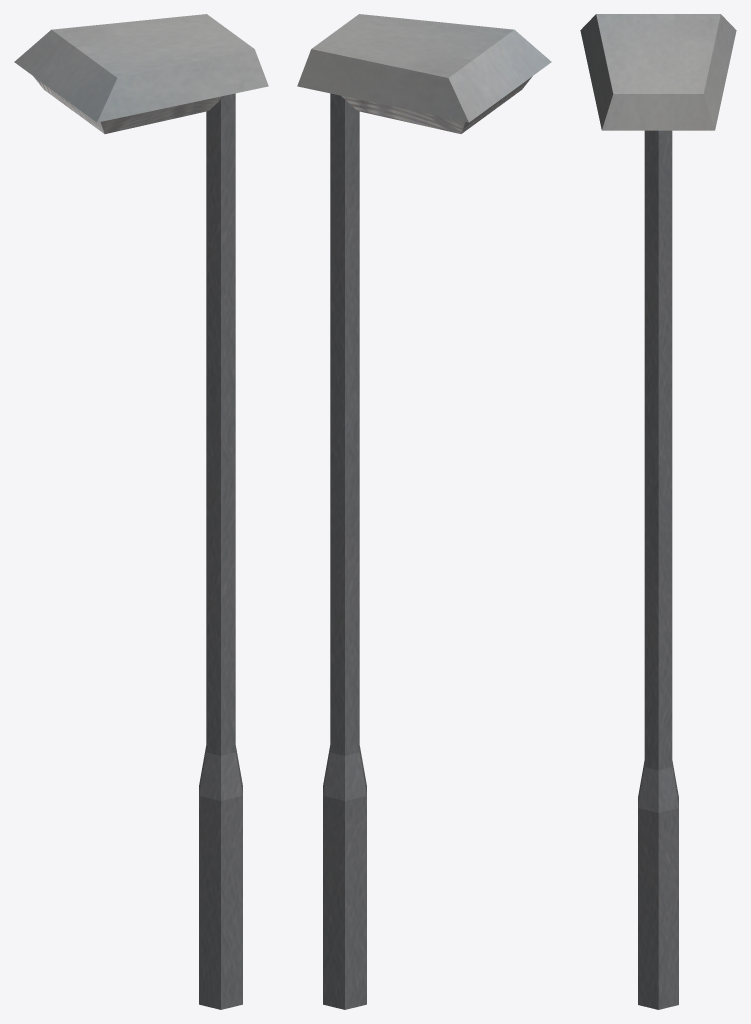
File: street lamp.obj
The picture shows the model from 3 angles, left to right: view 1: azimuth 30°, elevation 25°; view 2: azimuth 150°, elevation 25°; view 3: azimuth 270°, elevation 25°; orthographic projection. The views are drawn at different scales.
Parts seen in each view (by area): view 1: street_lamp; view 2: street_lamp; view 3: street_lamp.
Boxes of the visible parts, bbox=[...] form: street_lamp: bbox=[14, 14, 268, 1009]; street_lamp: bbox=[297, 14, 551, 1009]; street_lamp: bbox=[580, 14, 736, 1009].
Bounding box in the file's own units: 0.6306 × 3.15 × 0.4829.
